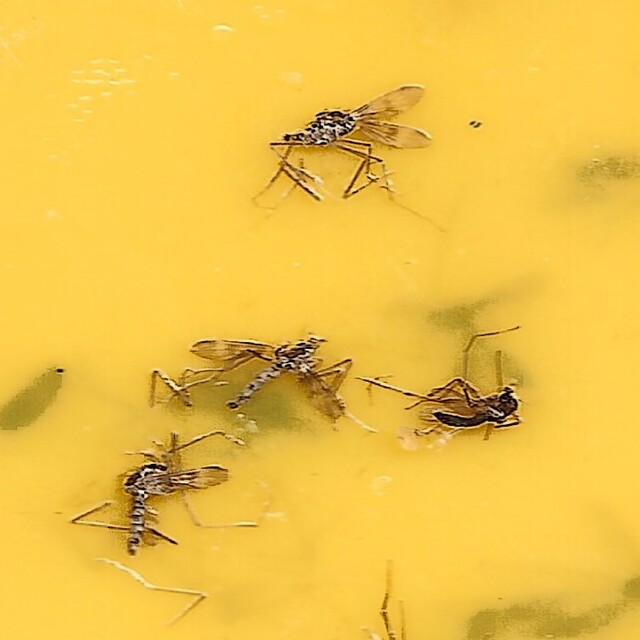Nematocera: (276, 85, 436, 201), (195, 331, 356, 427), (114, 439, 229, 555), (413, 377, 526, 436)
